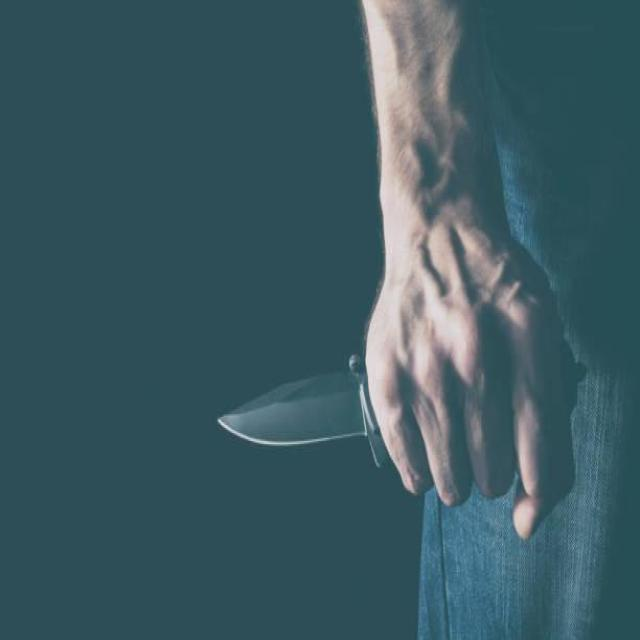faca: (175, 238, 608, 540)
